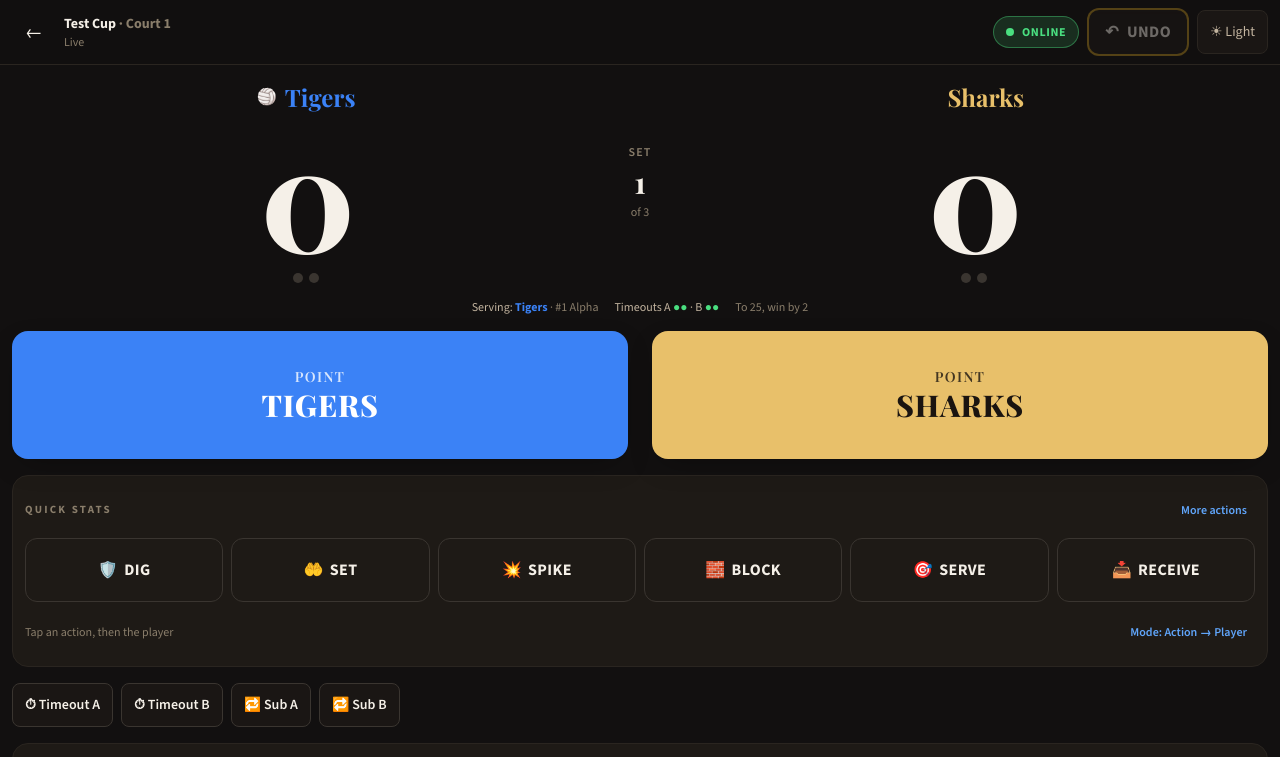
Test: LiveScoring — scorer usability › Test 1: records a point in exactly one tap and syncs it
This screenshot has width=1280, height=757.
Expected: the text with test id "score-A" reads "0", [260,97,352,289]
What coordinates should you click on to do the following:
click the button with test id "point-A"
I would click on:
 (320, 395)
Its box is [12,331,628,459].
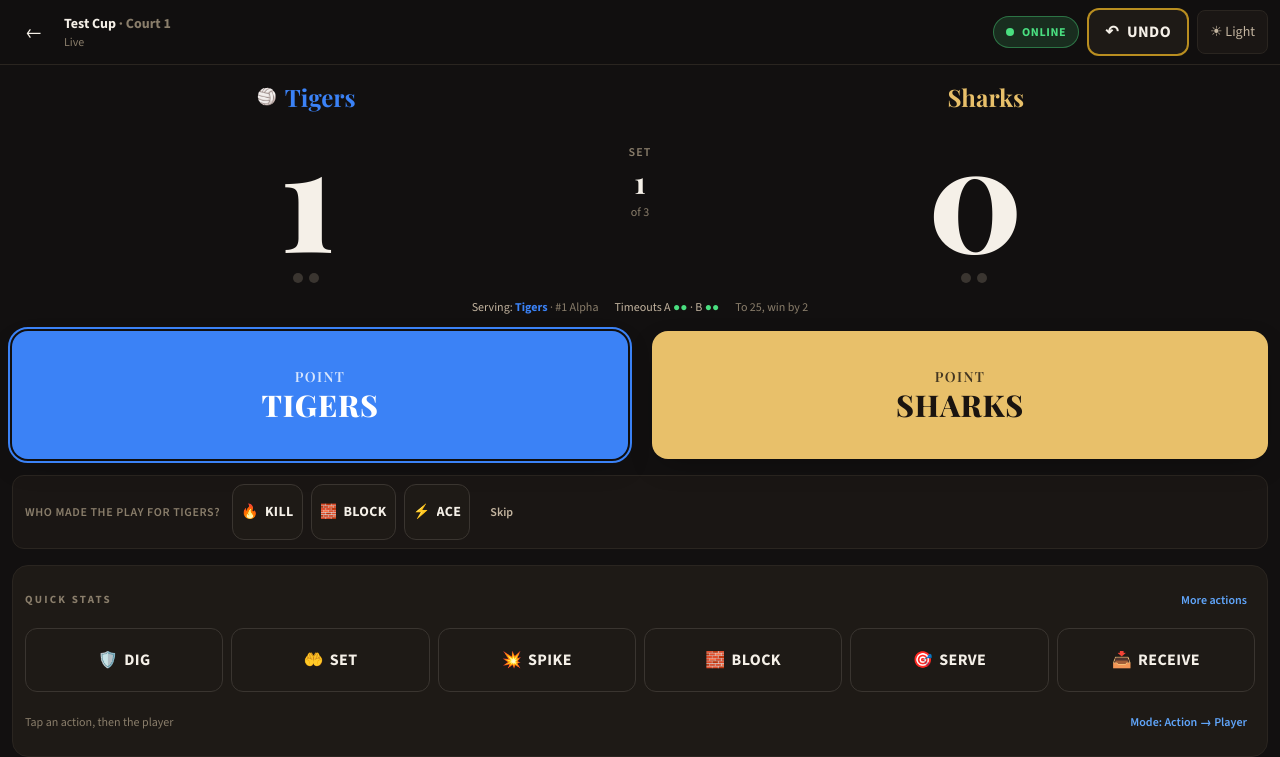
Now the text with test id "score-A" reads "1", box [280,97,333,289]
Now the element with test id "context-strip" is shown, box [12,475,1268,549]
